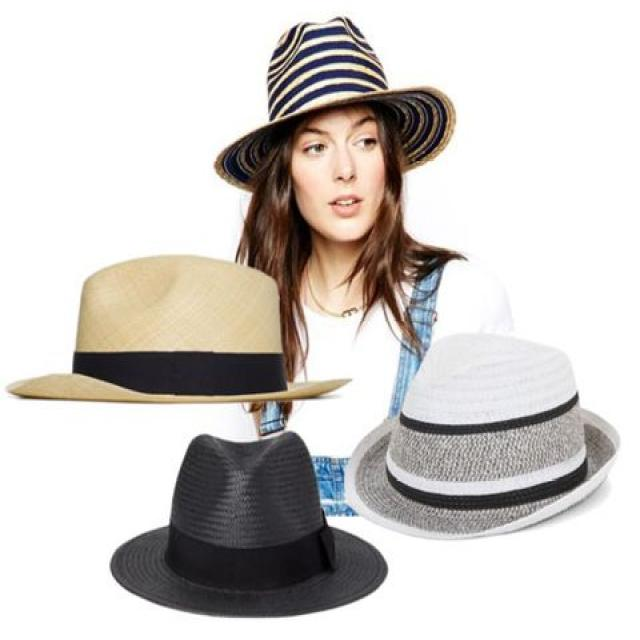hat: (213, 18, 458, 239)
